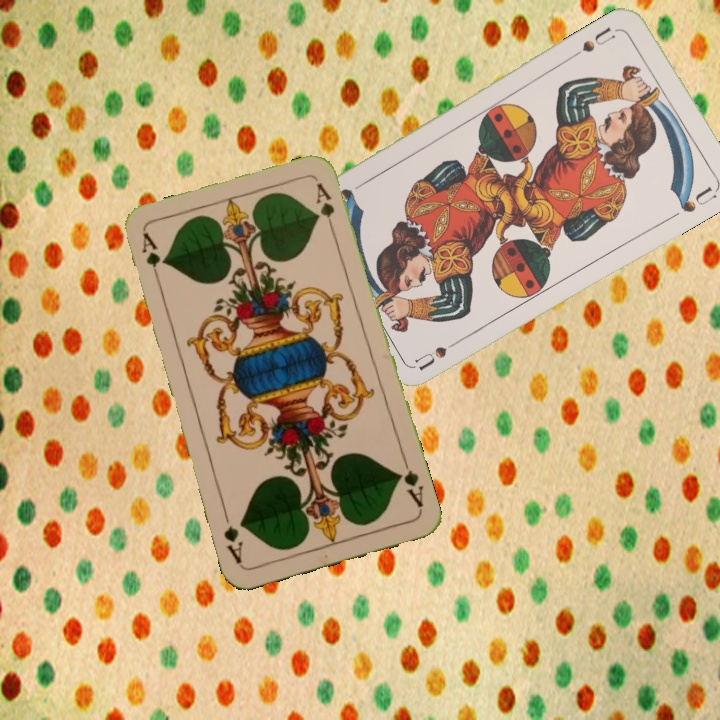GA: (393, 454, 426, 510), (137, 228, 165, 287)
SU: (412, 332, 468, 372), (578, 23, 618, 55)
